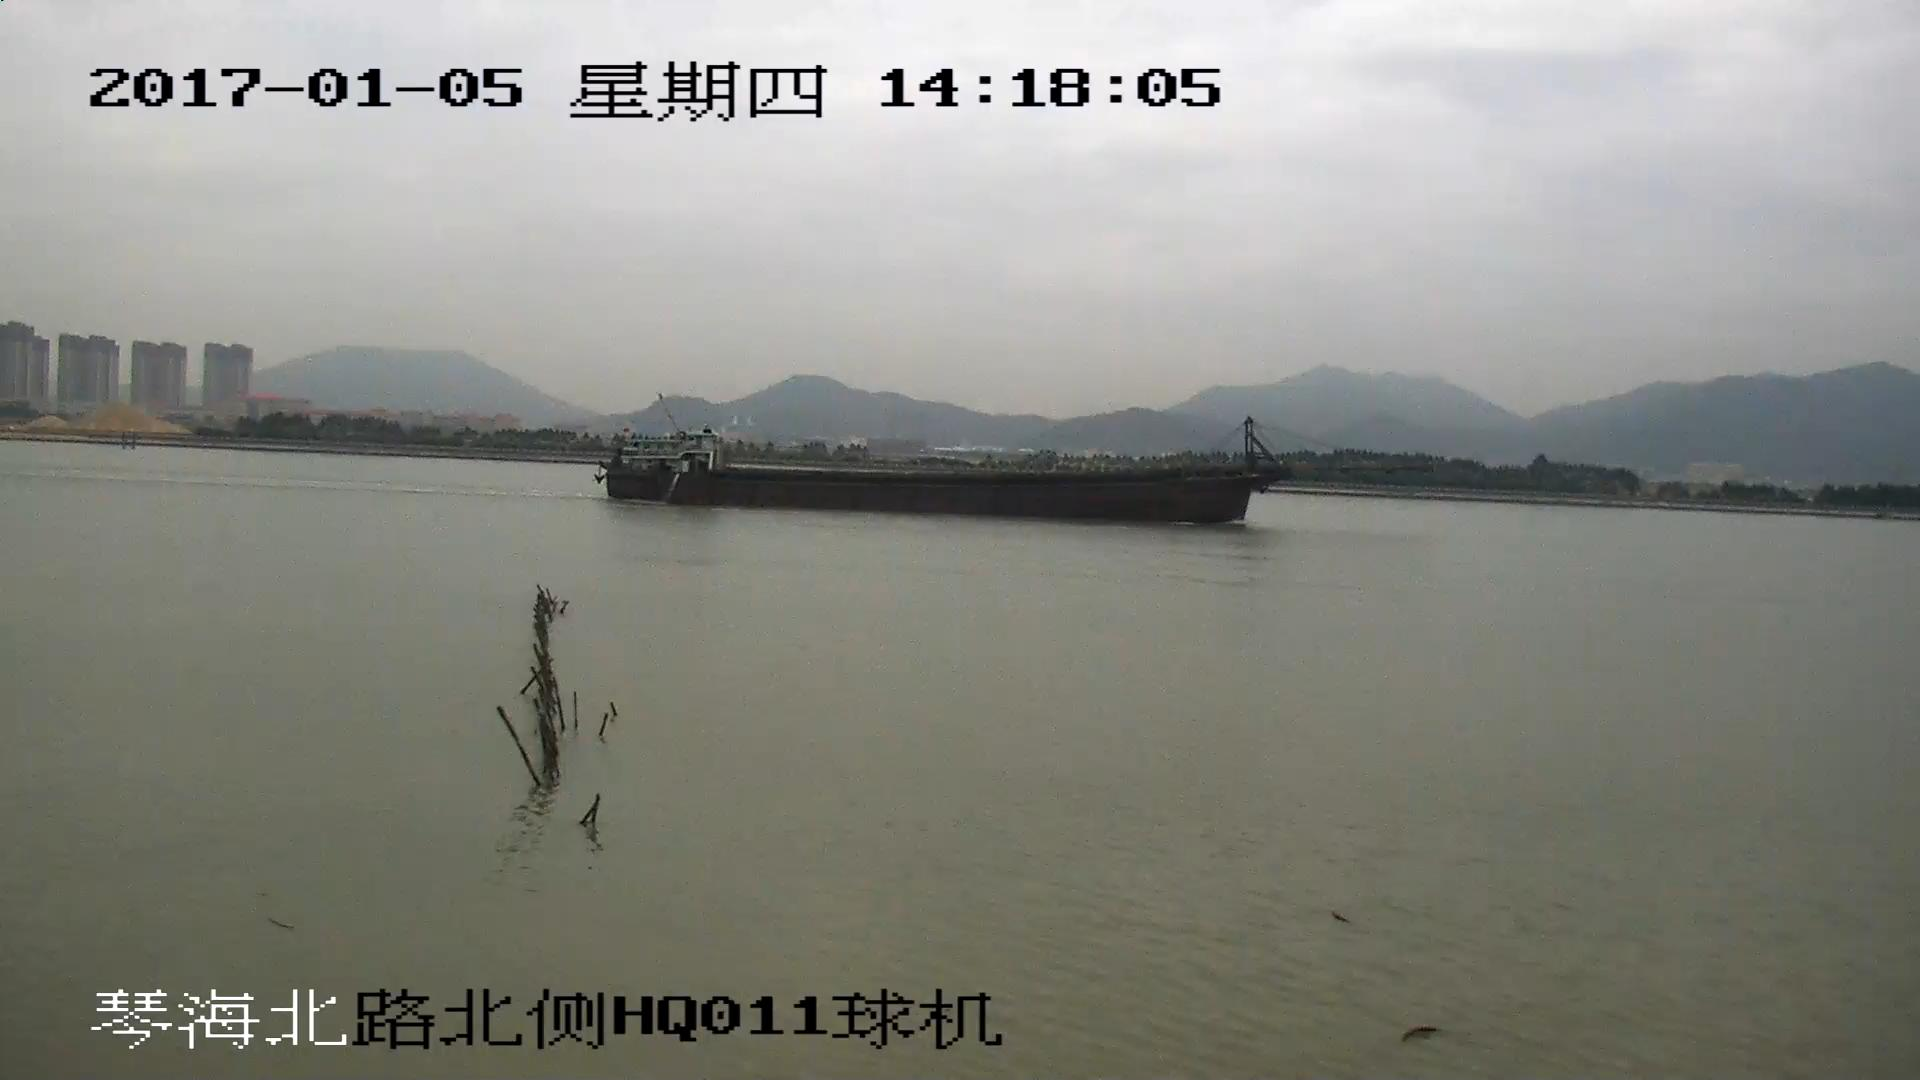bulk cargo carrier: (603, 414, 1393, 521)
